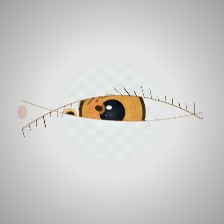foreign_body_visible: (46, 96, 94, 134)
